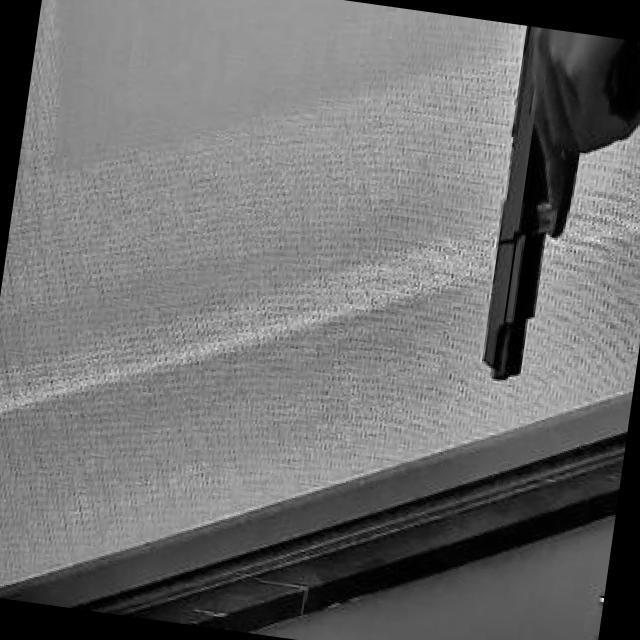Guns: (427, 19, 640, 415)
